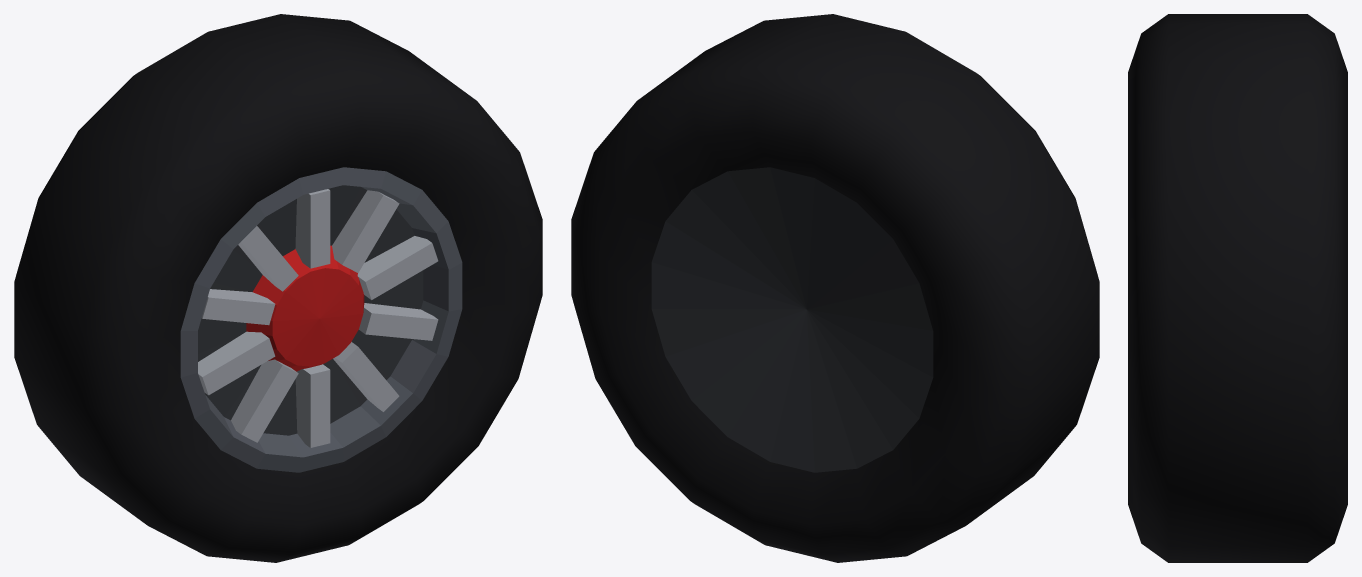
Rendered from hornet_wheel.glb.
3 views of the same model, side by side, from view 1: azimuth 30°, elevation 25°; view 2: azimuth 150°, elevation 25°; view 3: azimuth 270°, elevation 25° (orthographic). The views are drawn at different scales.
Visible parts, largest first — view 1: Wheel; view 2: Wheel; view 3: Wheel.
Boxes of the visible parts, x1,y1,x2,y2 form: Wheel: (14,14,542,562); Wheel: (571,14,1099,562); Wheel: (1128,14,1347,562).
Bounding box in the file's own units: 0.74 × 0.74 × 0.3.
